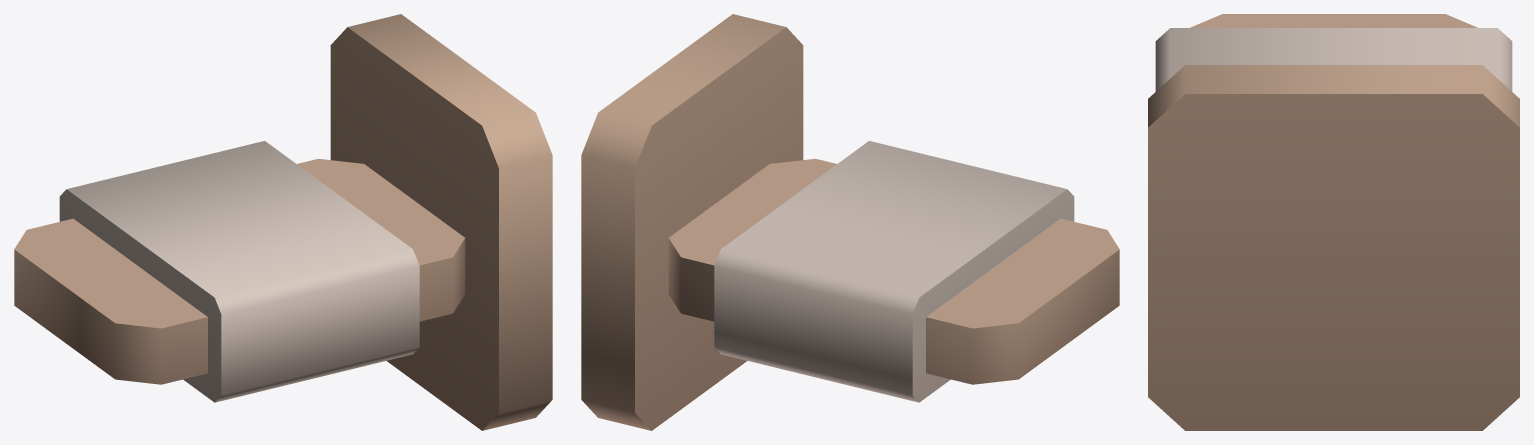
Rendered from cat-shelf (%wall).glb.
3 views of the same model, side by side, from view 1: azimuth 30°, elevation 25°; view 2: azimuth 150°, elevation 25°; view 3: azimuth 270°, elevation 25° (orthographic). The views are drawn at different scales.
Parts seen in each view (by area): view 1: cat-shelf (%wall); view 2: cat-shelf (%wall); view 3: cat-shelf (%wall).
Part boxes in pixels (x1,y1,x2,y2): cat-shelf (%wall): [14, 14, 552, 430]; cat-shelf (%wall): [581, 14, 1119, 430]; cat-shelf (%wall): [1148, 14, 1519, 430].
Size of the model in its own units: 0.4326 by 0.3125 by 0.3125.
